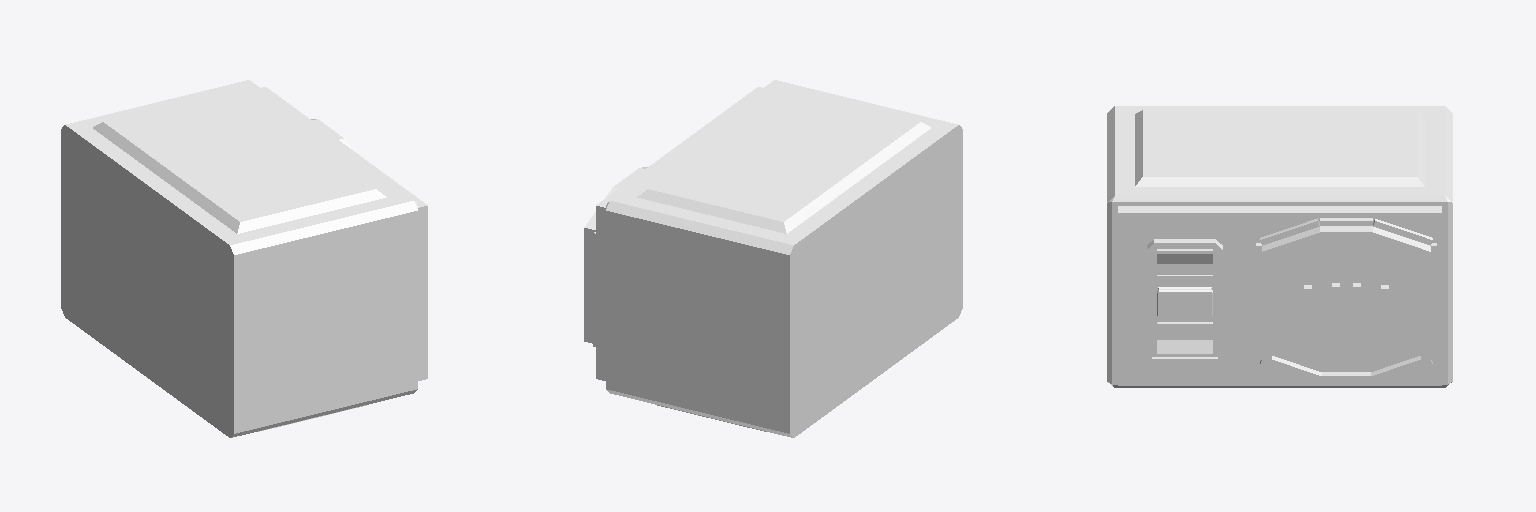
Rendered from AC_Unit_1.obj.
3 views of the same model, side by side, from view 1: azimuth 30°, elevation 25°; view 2: azimuth 150°, elevation 25°; view 3: azimuth 270°, elevation 25° (orthographic).
Visible parts, largest first — view 1: Cube1; view 2: Cube1, octotoad4; view 3: Cube1, octotoad4.
Boxes of the visible parts, x1=… form: Cube1: x1=61, y1=80, x2=427, y2=437; Cube1: x1=596, y1=80, x2=962, y2=437; octotoad4: x1=584, y1=167, x2=647, y2=346; Cube1: x1=1107, y1=106, x2=1452, y2=387; octotoad4: x1=1256, y1=218, x2=1436, y2=384.
Size of the model in its own units: 2.36 by 2.17 by 3.25.